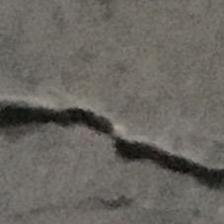Crack: (1, 95, 222, 201)
